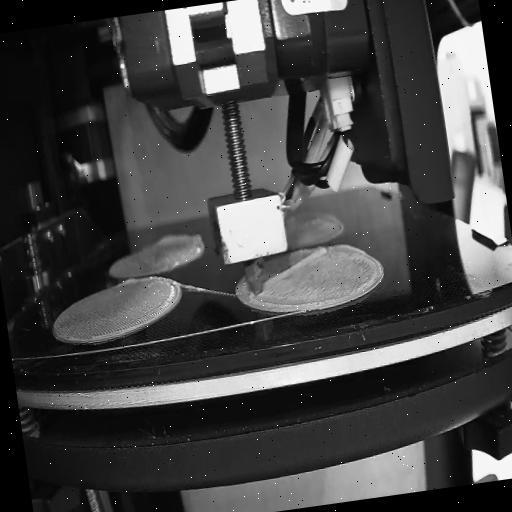over_extrusion: (258, 244, 332, 292), (154, 225, 208, 264), (332, 238, 368, 260), (329, 222, 347, 239), (118, 277, 141, 289)
